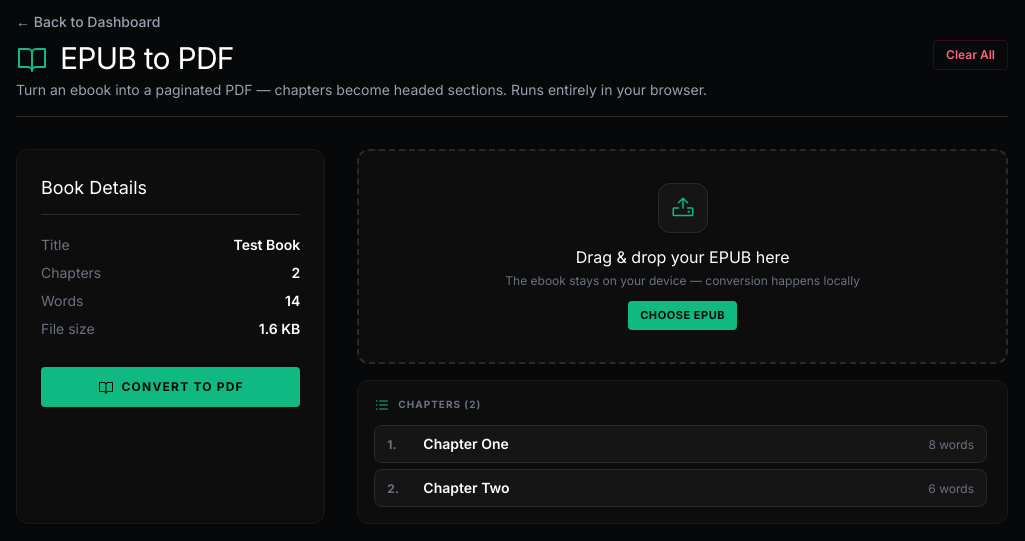
Test case: EpubToPdf component › reads an EPUB, lists its chapters, and converts it to a PDF
Earlier steps of the test are not shown.
Check: the text "Chapter One" is shown, box [423,434,509,454]
Check: the text "Chapter Two" is shown, box [423,478,510,498]
What coordinates should you click on to do the following:
click the button "Convert to PDF"
I would click on:
 (171, 387)
Its box is [41,367,300,407].
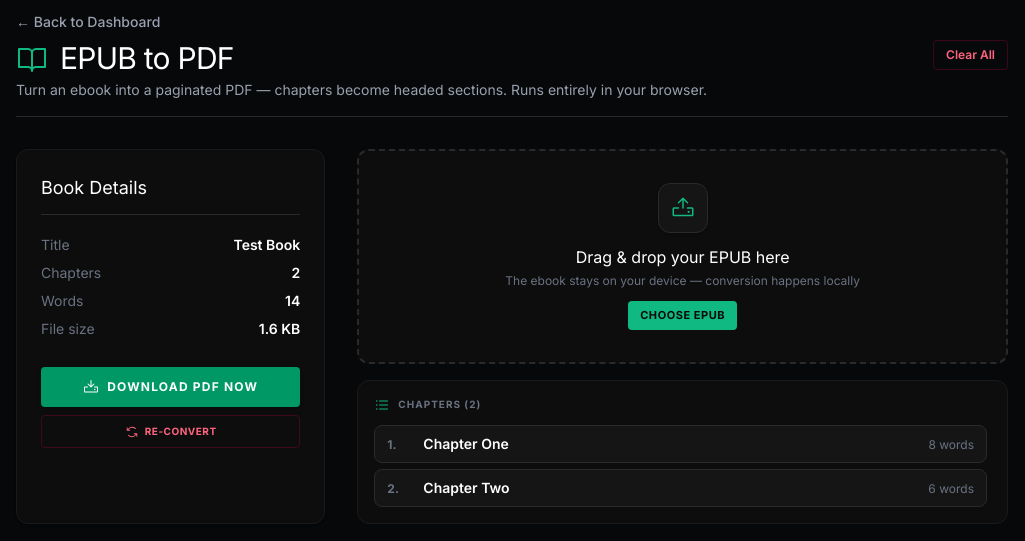
Check: the button "Download PDF Now" is shown, box [41,367,300,407]
